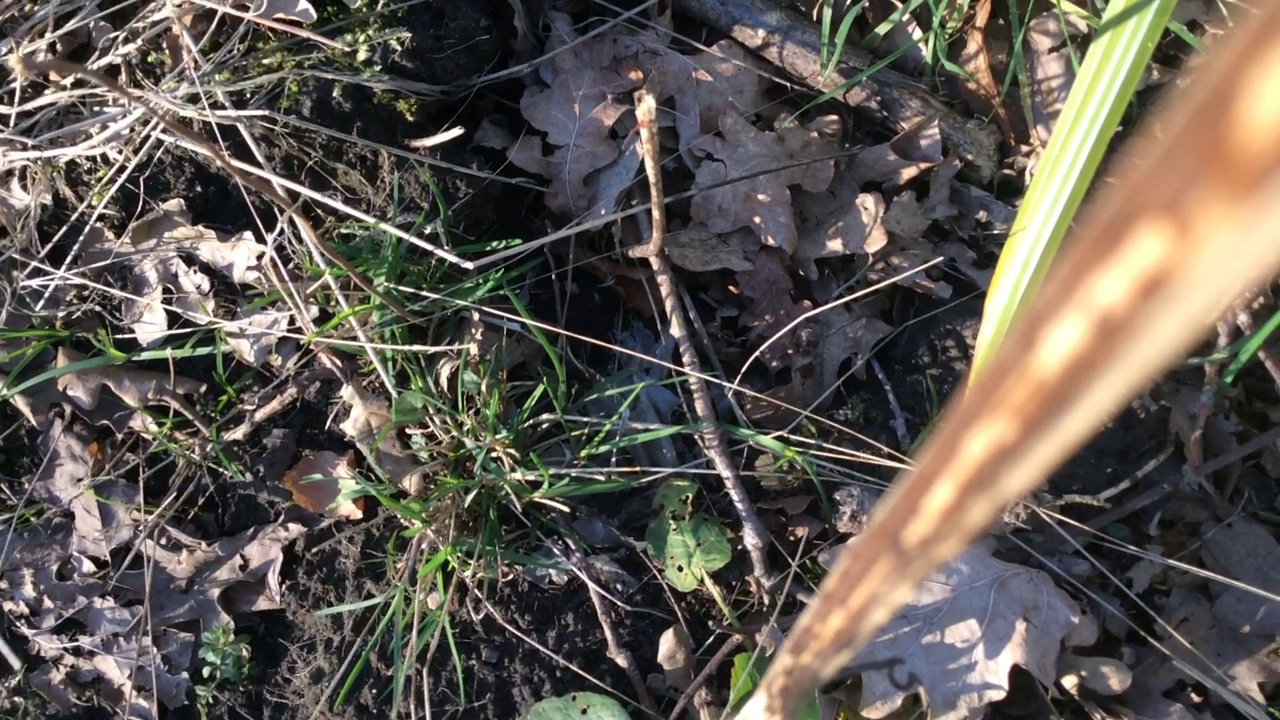rumex: (526, 480, 743, 720)
